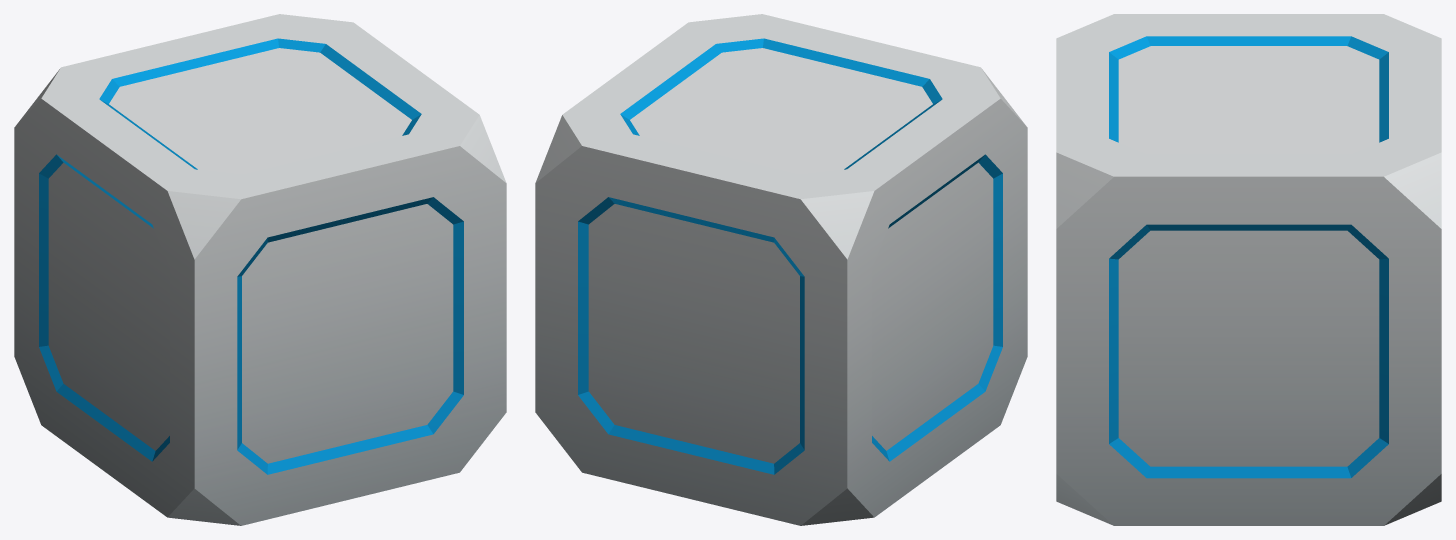
The picture shows the model from 3 angles, left to right: view 1: azimuth 30°, elevation 25°; view 2: azimuth 150°, elevation 25°; view 3: azimuth 270°, elevation 25°; orthographic projection. The views are drawn at different scales.
Parts seen in each view (by area): view 1: Box_008; view 2: Box_008; view 3: Box_008.
Boxes of the visible parts, x1,y1,x2,y2 form: Box_008: (14, 14, 506, 525); Box_008: (535, 14, 1027, 525); Box_008: (1056, 14, 1441, 525).
Bounding box in the file's own units: 60 × 60 × 60.
